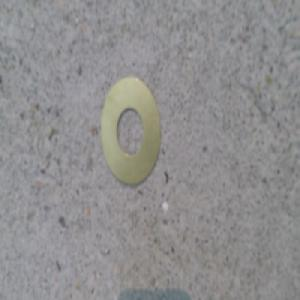Washer: (101, 75, 162, 191)
